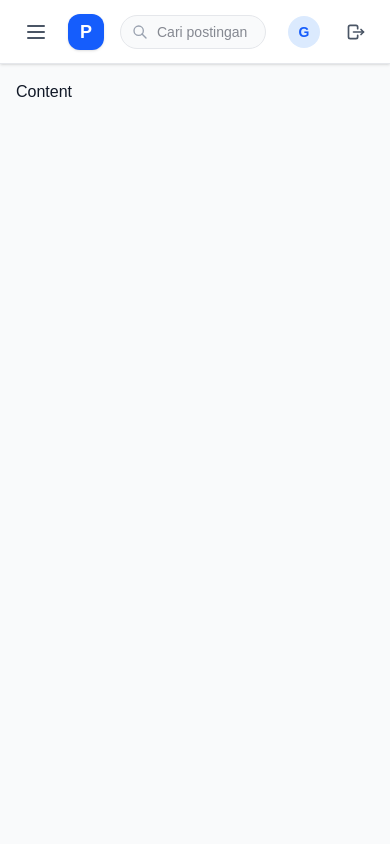
it: PostLayout › should toggle mobile sidebar open and closed
Click the button named "Buka menu navigasi": (36, 32) [16, 12, 56, 52]
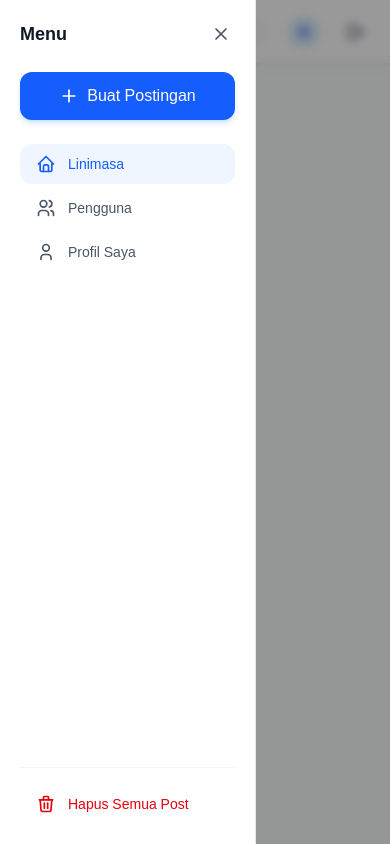
Result: the element with test id "sidebar-backdrop" is shown
Click the element with test id "sidebar-backdrop": (367, 422) [0, 0, 389, 843]
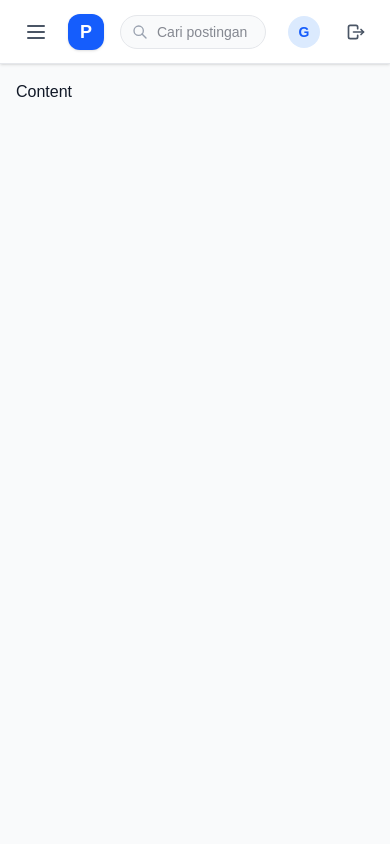
Result: the element with test id "sidebar-backdrop" is gone
